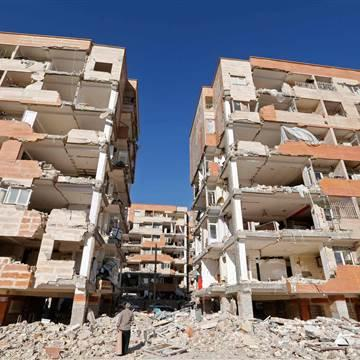destroyed: (187, 53, 359, 324), (1, 28, 126, 330)
